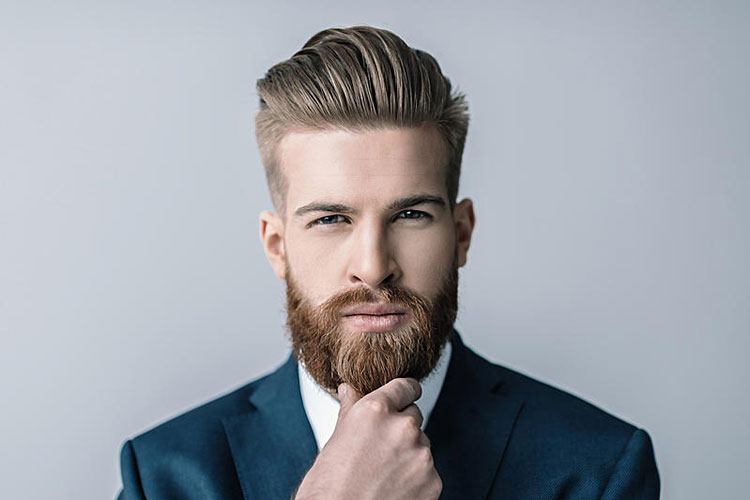without_mask: (285, 189, 458, 360)
